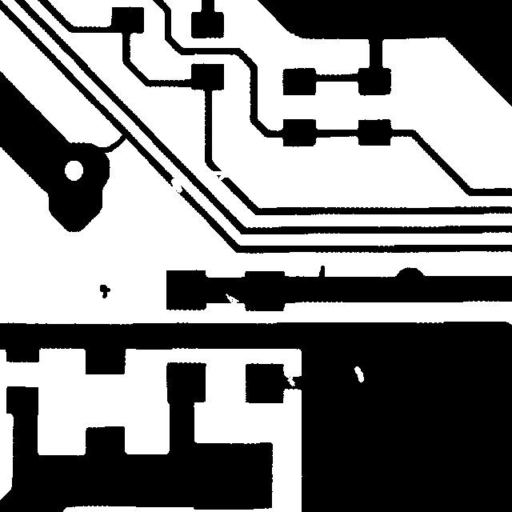copper: (92, 277, 118, 306)
mousebite: (218, 286, 246, 311), (278, 367, 302, 394)
open: (202, 162, 239, 187), (163, 170, 190, 200)
pin-hole: (346, 358, 371, 390)
short: (90, 126, 134, 160)
spur: (310, 258, 333, 290)
